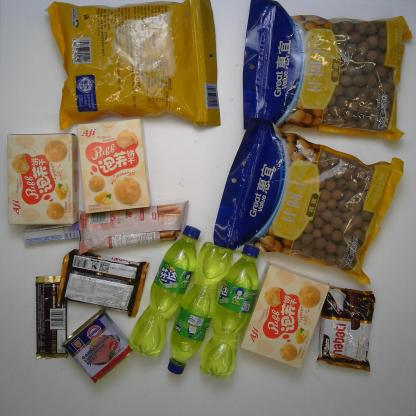Candy: (21, 224, 81, 246)
Canned Food: (62, 308, 132, 387)
Chocolate: (32, 271, 72, 363)
Dessert: (238, 259, 330, 372), (74, 117, 153, 215), (5, 130, 81, 227), (77, 196, 191, 258), (55, 248, 150, 319), (314, 286, 376, 374)
Dried Food: (212, 116, 408, 287), (238, 0, 414, 144), (42, 0, 224, 132)
Drink: (127, 223, 202, 361), (166, 239, 235, 377), (198, 237, 260, 382)
